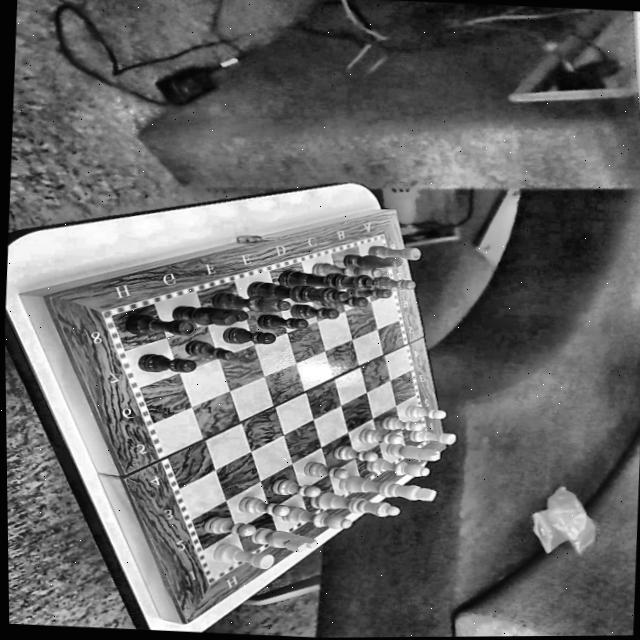chessboard: (113, 238, 424, 576)
